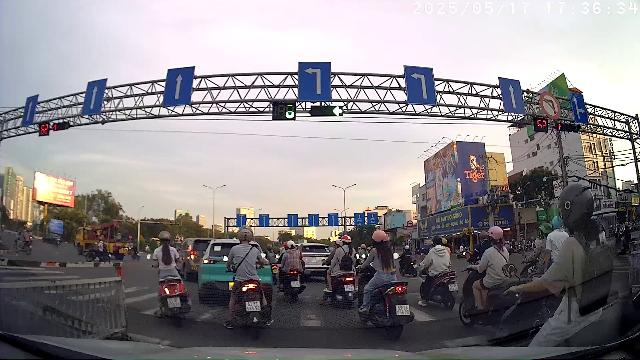123a-cam-re-trai: (540, 92, 560, 118)
